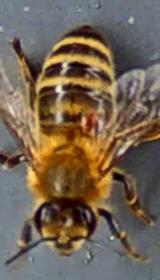varroa_mite: (65, 104, 112, 140)
